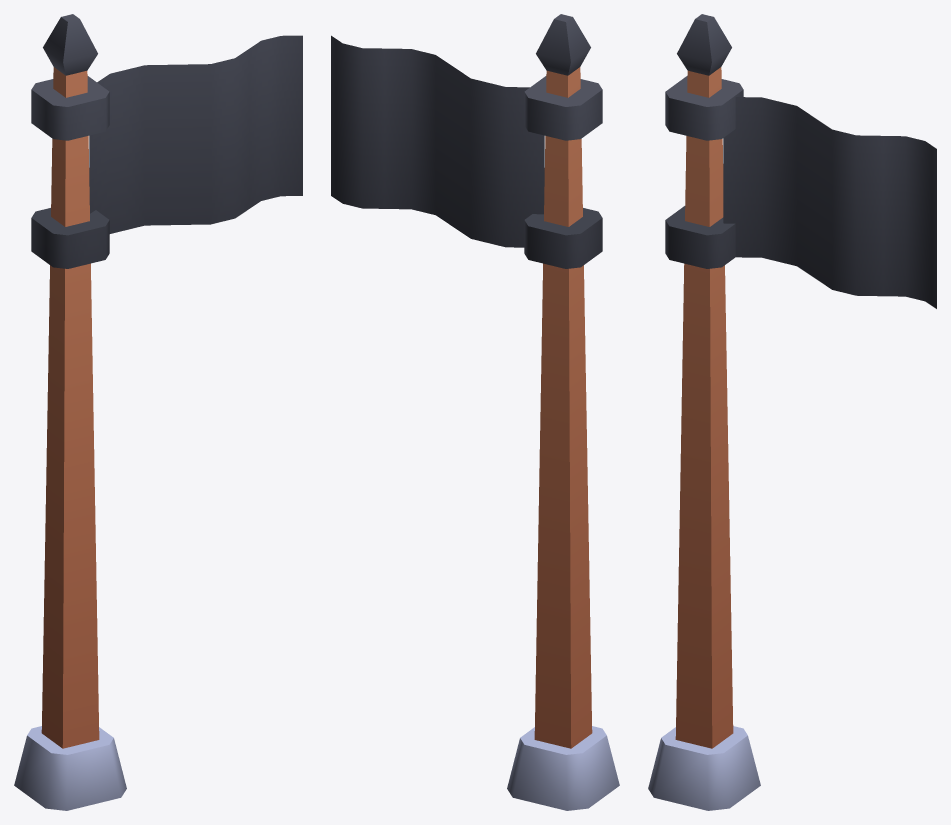
The model's file is flag-pirate-high.glb.
3 renders of one model, left to right at view 1: azimuth 30°, elevation 25°; view 2: azimuth 150°, elevation 25°; view 3: azimuth 330°, elevation 25°, orthographic.
Visible parts, largest first — view 1: flag-pirate-high; view 2: flag-pirate-high; view 3: flag-pirate-high.
Boxes of the visible parts, x1=… form: flag-pirate-high: x1=14, y1=14, x2=302, y2=810; flag-pirate-high: x1=331, y1=14, x2=619, y2=810; flag-pirate-high: x1=648, y1=14, x2=936, y2=810.
Bounding box in the file's own units: 1.34 × 3.6 × 0.3987.
Materials: 1 (1 with a texture image).
